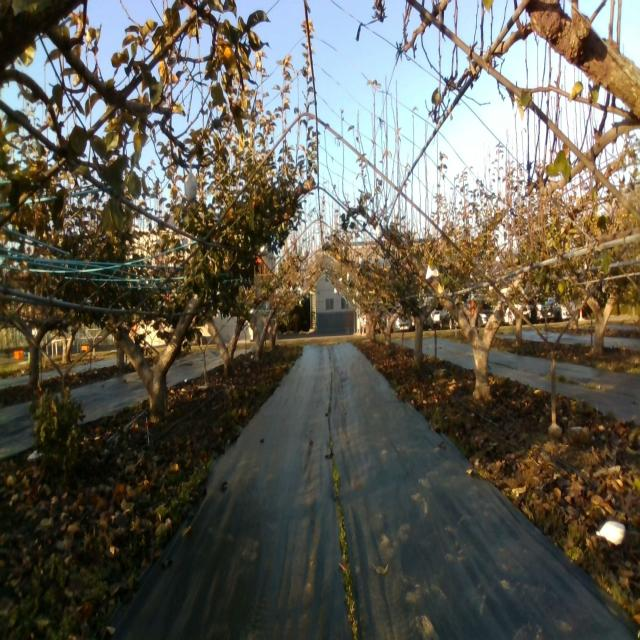pearbags: (183, 163, 197, 207)
